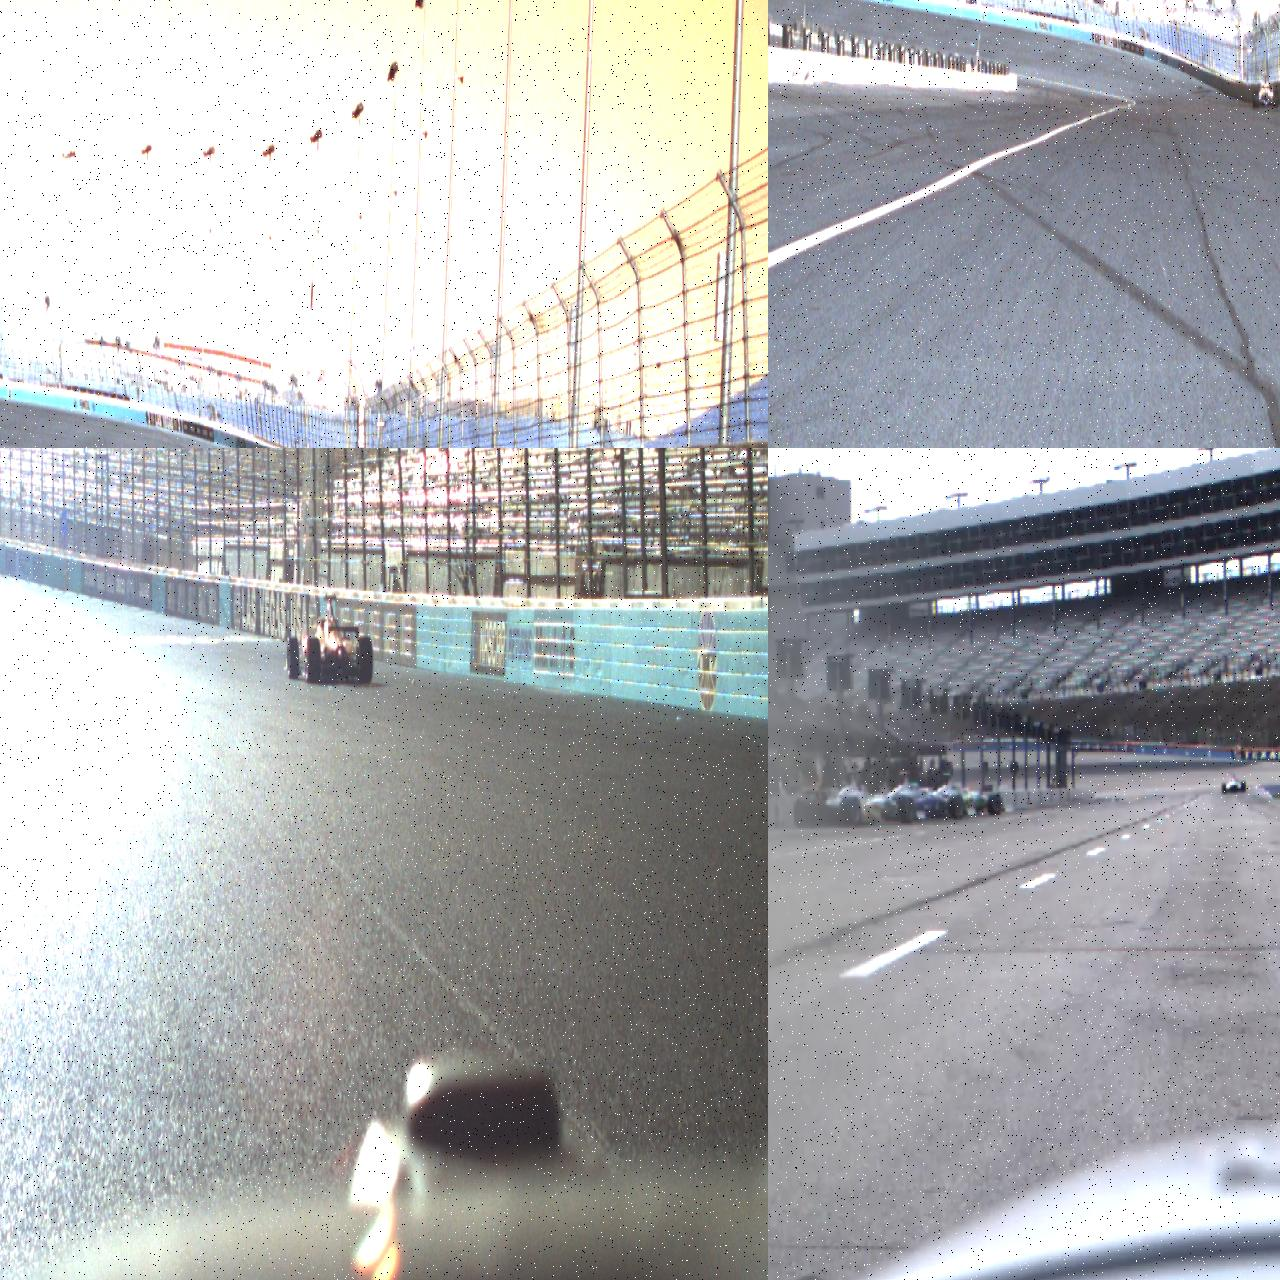AV: (284, 594, 374, 685), (1253, 76, 1279, 108), (1223, 775, 1246, 794)
Wheel: (305, 638, 320, 683), (794, 798, 817, 828), (839, 797, 862, 828), (359, 635, 373, 683), (287, 636, 299, 679), (898, 797, 914, 824), (948, 795, 965, 821), (988, 795, 1002, 815), (1253, 90, 1259, 108), (1273, 90, 1279, 107), (1241, 782, 1246, 792), (1223, 784, 1226, 794)
